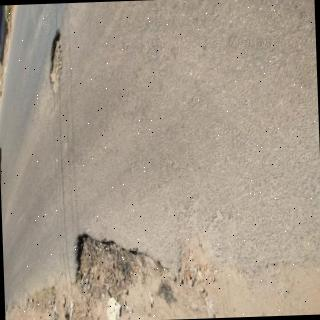pothole: (77, 234, 158, 320), (5, 288, 59, 320), (49, 30, 65, 103)
